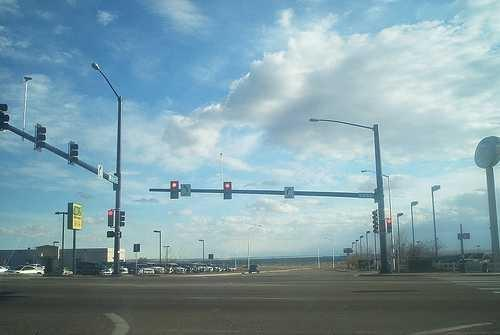red: (169, 181, 180, 202), (223, 180, 234, 200), (106, 208, 116, 230), (386, 216, 394, 236)
